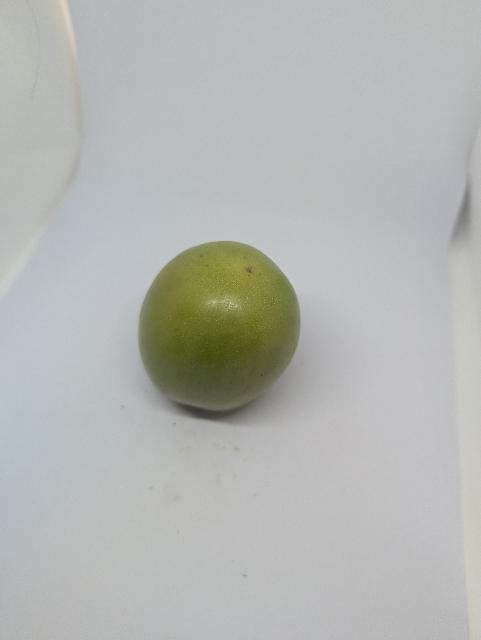green: (126, 230, 330, 432)
